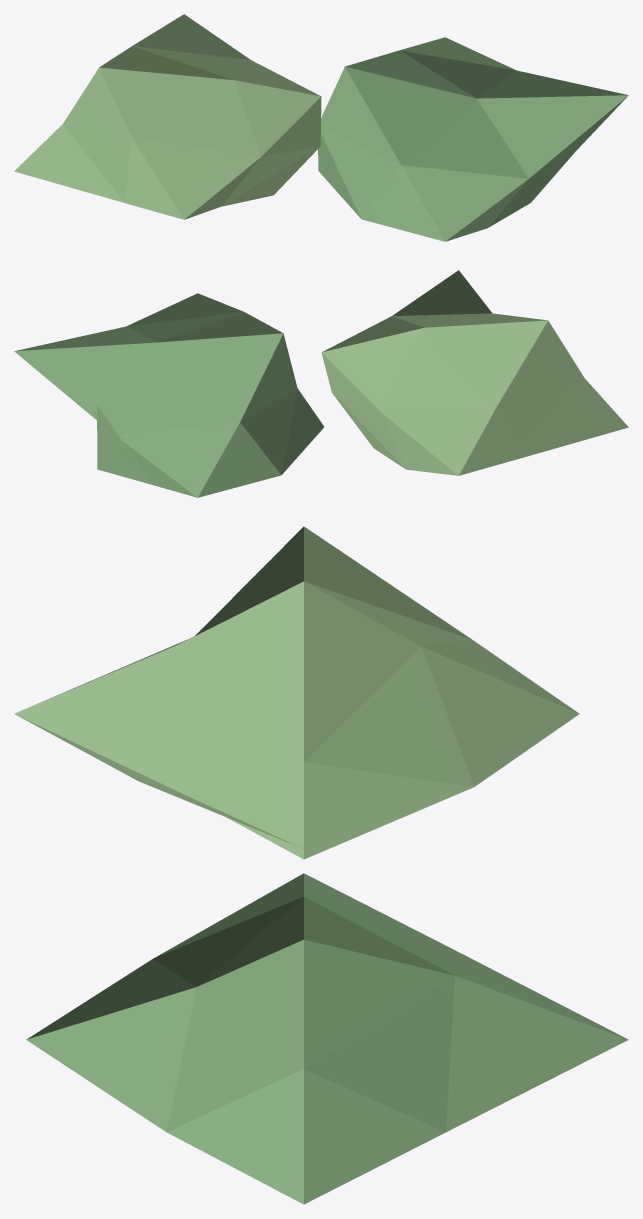
File: shrub_v03.glb
3 renders of one model, top to bottom at view 1: azimuth 30°, elevation 25°; view 2: azimuth 150°, elevation 25°; view 3: azimuth 270°, elevation 25°, orthographic. The views are drawn at different scales.
Parts seen in each view (by area): view 1: lod0; view 2: lod0; view 3: lod0.
Part boxes in pixels (x1,y1,x2,y2): lod0: (14, 14, 628, 241); lod0: (14, 270, 628, 497); lod0: (14, 526, 628, 1204).
Size of what is drawn, in the model's own units: 1.74 by 0.7895 by 0.9322.
